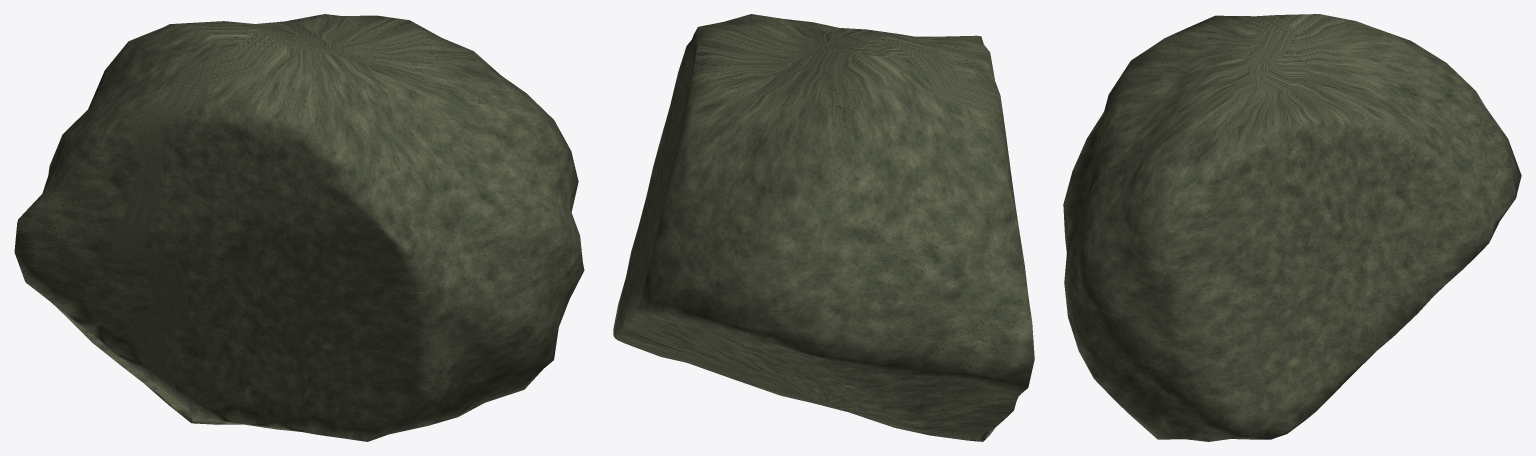
File: obstacle_big_4.dae
3 renders of one model, left to right at view 1: azimuth 30°, elevation 25°; view 2: azimuth 150°, elevation 25°; view 3: azimuth 270°, elevation 25°, orthographic. The views are drawn at different scales.
Parts seen in each view (by area): view 1: obstacle_big_4; view 2: obstacle_big_4; view 3: obstacle_big_4.
Part boxes in pixels (<box>): obstacle_big_4: <box>14,14,584,441</box>; obstacle_big_4: <box>613,14,1034,441</box>; obstacle_big_4: <box>1063,14,1521,441</box>.
Size of the model in its own units: 1 by 0.9387 by 0.7366.
Materials: 1 (1 with a texture image).
